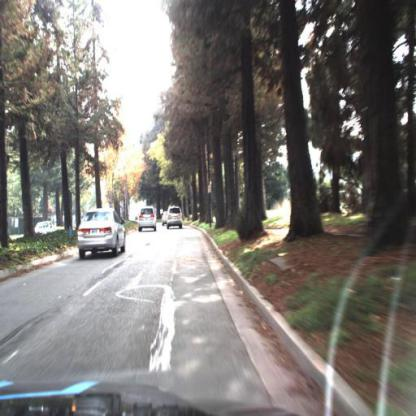car: (79, 208, 127, 258), (135, 204, 161, 238), (166, 206, 188, 233), (138, 205, 157, 233), (34, 221, 57, 238), (160, 210, 170, 231)
